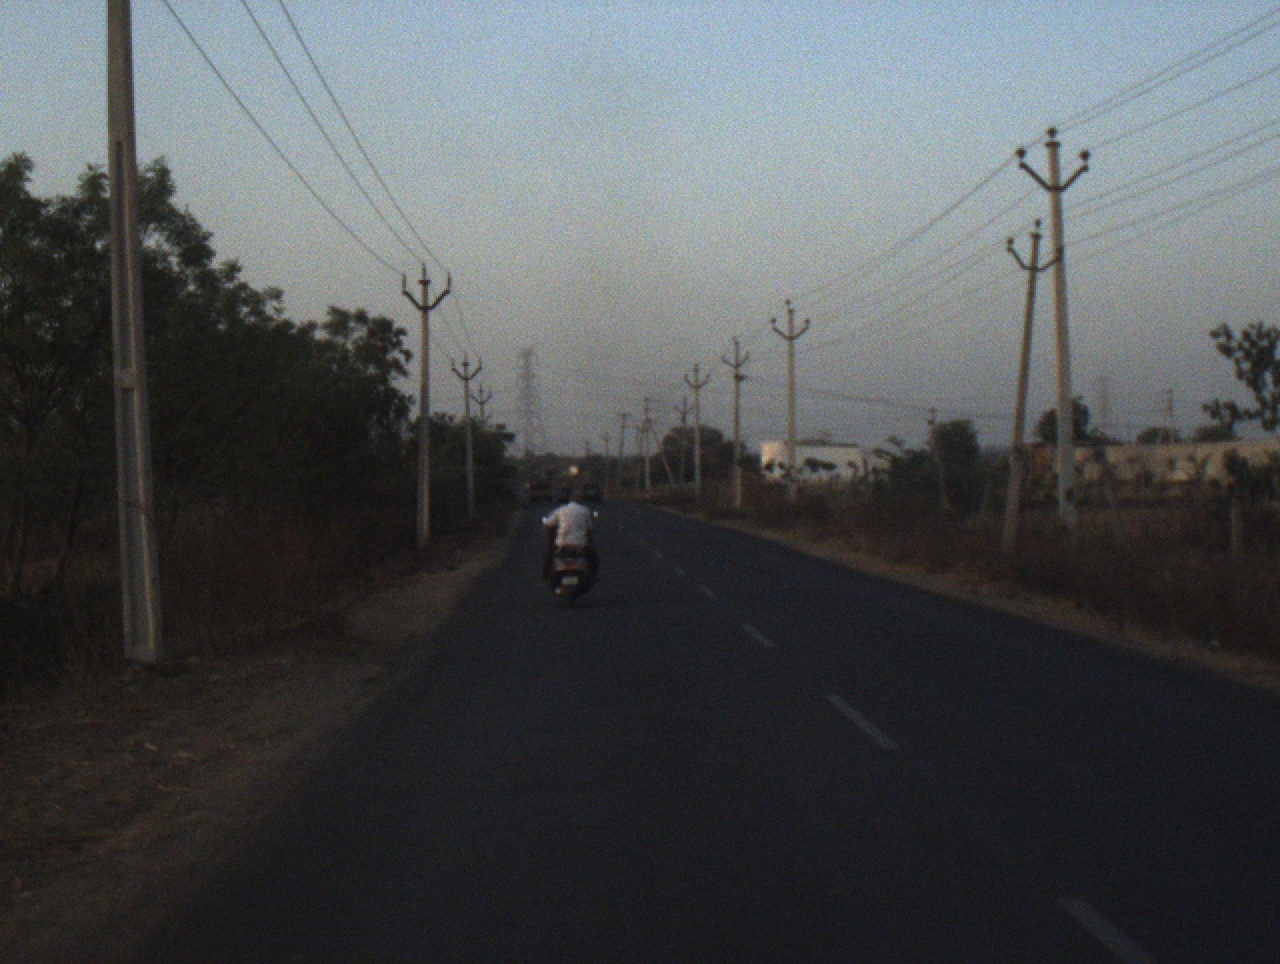autorickshaw: (526, 470, 552, 504)
car: (577, 479, 603, 503)
motorcycle: (540, 509, 601, 611)
rider: (535, 487, 600, 590), (554, 487, 574, 509)
